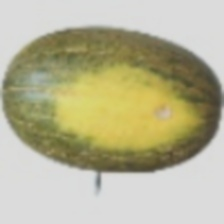honeydew: (39, 9, 191, 202)
